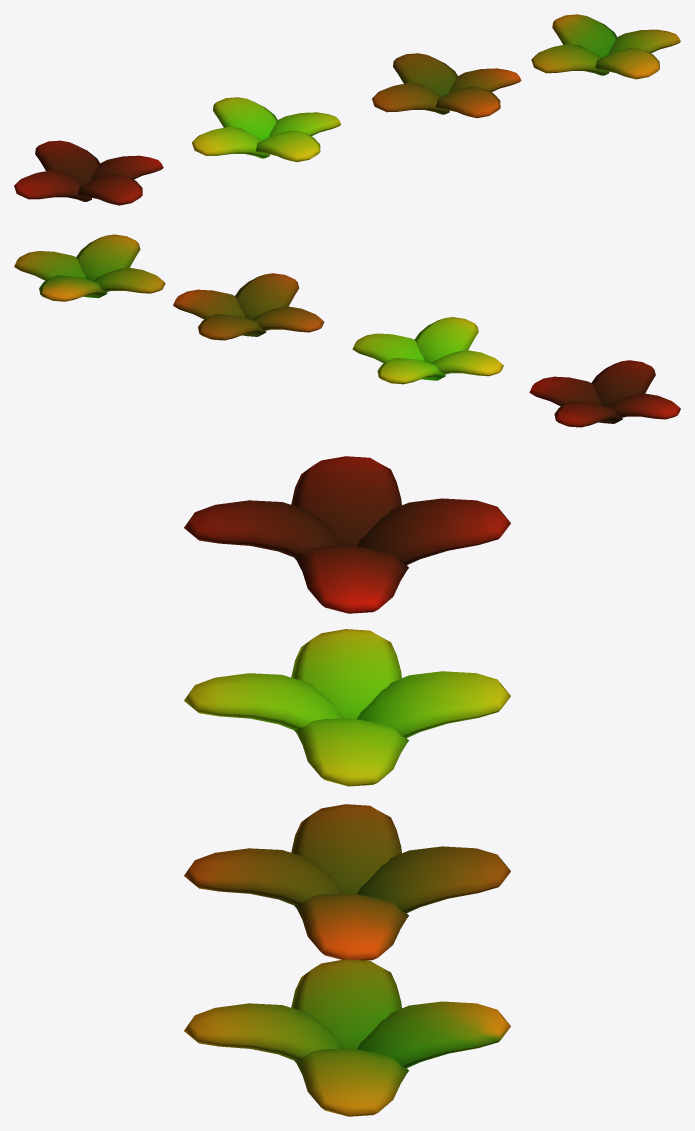
The model's file is KM_GrassThick01.fbx.
The picture shows the model from 3 angles, top to bottom: view 1: azimuth 30°, elevation 25°; view 2: azimuth 150°, elevation 25°; view 3: azimuth 270°, elevation 25°; orthographic projection. The views are drawn at different scales.
Parts seen in each view (by area): view 1: Grass04, Grass02, Grass03, Grass01; view 2: Grass03, Grass04, Grass02, Grass01; view 3: Grass04, Grass01, Grass03, Grass02.
Boxes of the visible parts, x1,y1,x2,y2 form: Grass04: (14,140,163,205); Grass02: (372,53,521,118); Grass03: (191,97,341,161); Grass01: (531,14,680,79); Grass03: (352,317,503,384); Grass04: (529,360,680,427); Grass02: (173,273,324,340); Grass01: (14,234,165,301); Grass04: (184,456,510,613); Grass01: (184,959,510,1116); Grass03: (184,629,510,786); Grass02: (184,804,510,960).
Bounding box in the file's own units: 1.74 × 0.082 × 0.3738.
